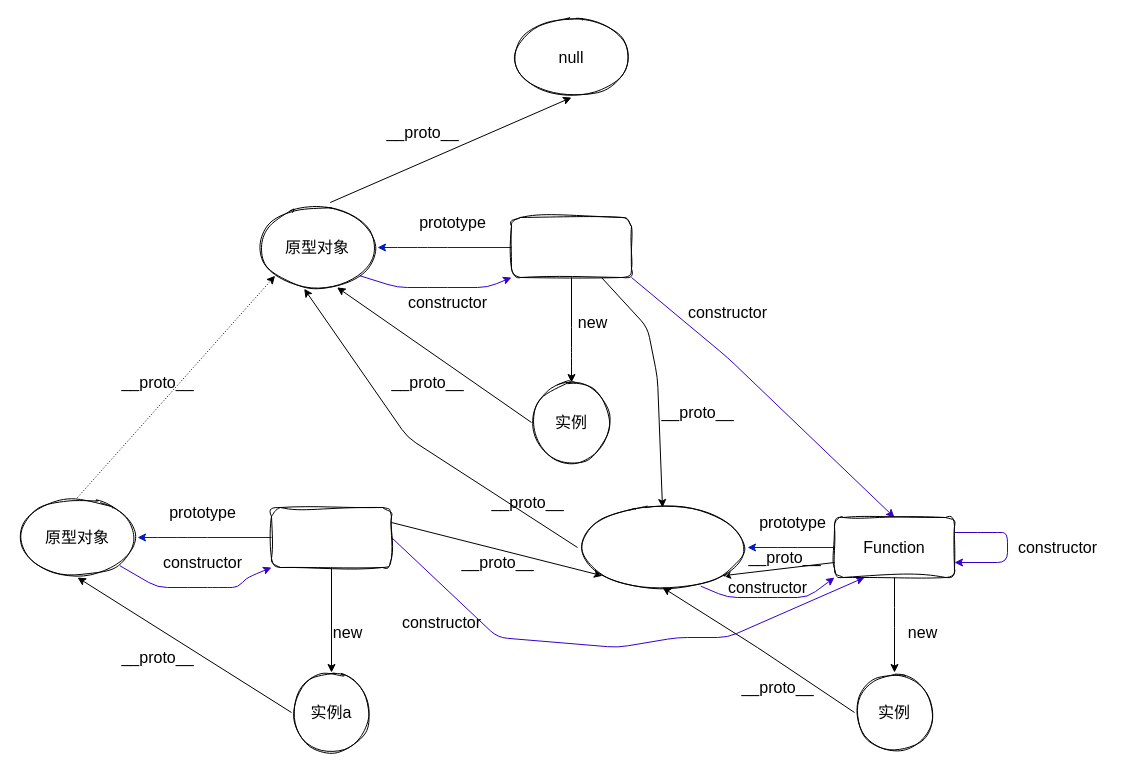
Image size: 1125x770. Some labels were removed from this diagram. The box of each missing label's shape, as (x1, y1, x2, y2) in pixels:
Function.prototype: (576, 506, 748, 588)
Object: (510, 216, 632, 278)
构造函数A: (270, 506, 392, 568)
